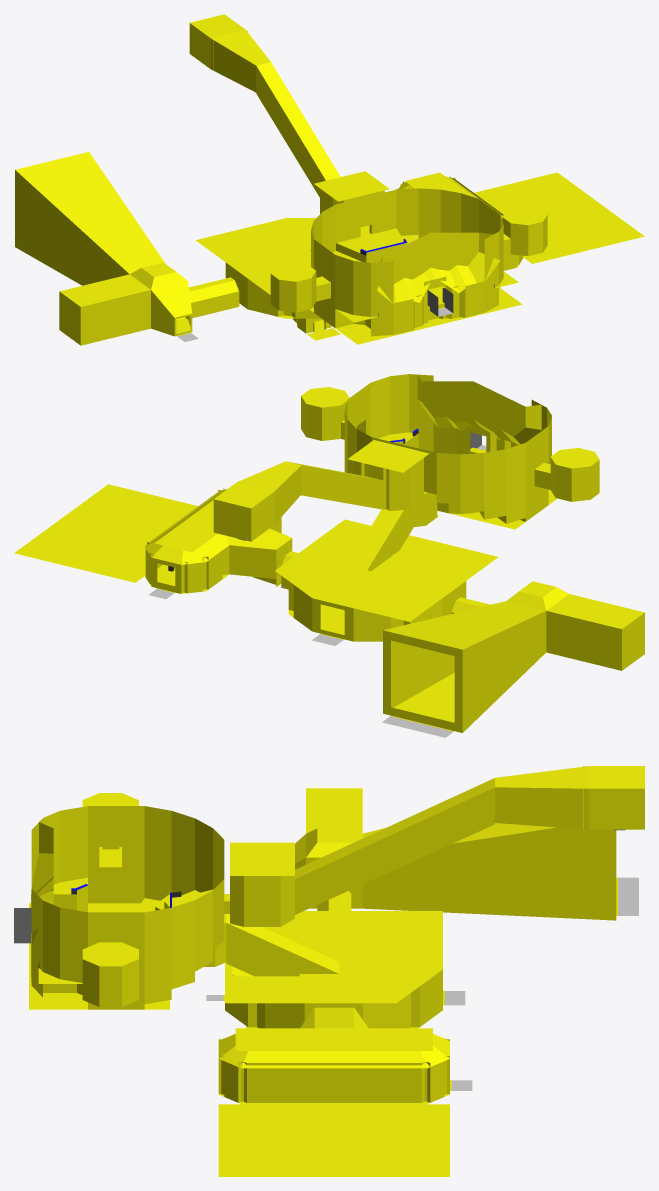
File: inside_castle_segment7.0x6E364.collision.obj
The picture shows the model from 3 angles, top to bottom: view 1: azimuth 30°, elevation 25°; view 2: azimuth 150°, elevation 25°; view 3: azimuth 270°, elevation 25°; orthographic projection. The views are drawn at different scales.
Parts seen in each view (by area): view 1: inside_castle_segment7_6E364_normal; view 2: inside_castle_segment7_6E364_normal; view 3: inside_castle_segment7_6E364_normal, inside_castle_segment7_6E364_wall.
Part boxes in pixels (x1=…): inside_castle_segment7_6E364_normal: x1=15, y1=14, x2=644, y2=345; inside_castle_segment7_6E364_normal: x1=14, y1=374, x2=644, y2=732; inside_castle_segment7_6E364_normal: x1=29, y1=766, x2=644, y2=1176; inside_castle_segment7_6E364_wall: x1=14, y1=829, x2=624, y2=943.
Size of the model in its own units: 14.36 by 5.2 by 11.18.
